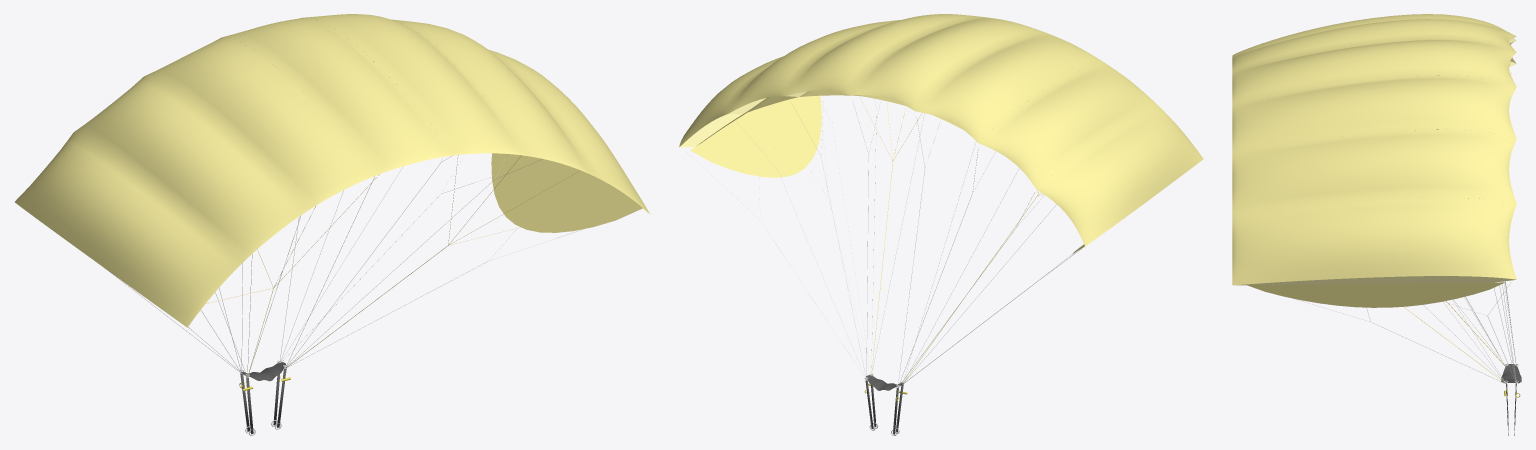
Rendered from PD_PDReserve_176.glb.
3 renders of one model, left to right at view 1: azimuth 30°, elevation 25°; view 2: azimuth 150°, elevation 25°; view 3: azimuth 270°, elevation 25°, orthographic. The views are drawn at different scales.
Visible parts, largest first — view 1: TopSkin, Stabilizers, Lines, Risers, SteeringLines; view 2: TopSkin, Stabilizers, Lines, Ribs, BottomSkin, Risers, SteeringLines; view 3: TopSkin, Stabilizers, Ribs, Lines, Slider.
Part boxes in pixels (bbox=[...]): TopSkin: bbox=[15, 14, 650, 327]; Stabilizers: bbox=[491, 153, 642, 232]; Lines: bbox=[109, 154, 582, 377]; Risers: bbox=[239, 363, 290, 435]; SteeringLines: bbox=[206, 155, 631, 387]; TopSkin: bbox=[679, 14, 1203, 246]; Stabilizers: bbox=[690, 95, 1084, 253]; Lines: bbox=[687, 95, 1081, 387]; Ribs: bbox=[679, 86, 861, 147]; BottomSkin: bbox=[697, 90, 1012, 161]; Risers: bbox=[864, 375, 907, 435]; SteeringLines: bbox=[859, 96, 1043, 381]; TopSkin: bbox=[1232, 14, 1516, 285]; Stabilizers: bbox=[1247, 282, 1505, 307]; Ribs: bbox=[1237, 36, 1516, 285]; Lines: bbox=[1293, 61, 1516, 383]; Slider: bbox=[1501, 364, 1521, 383].
Size of the model in its own units: 5.14 by 4.09 by 2.8.
